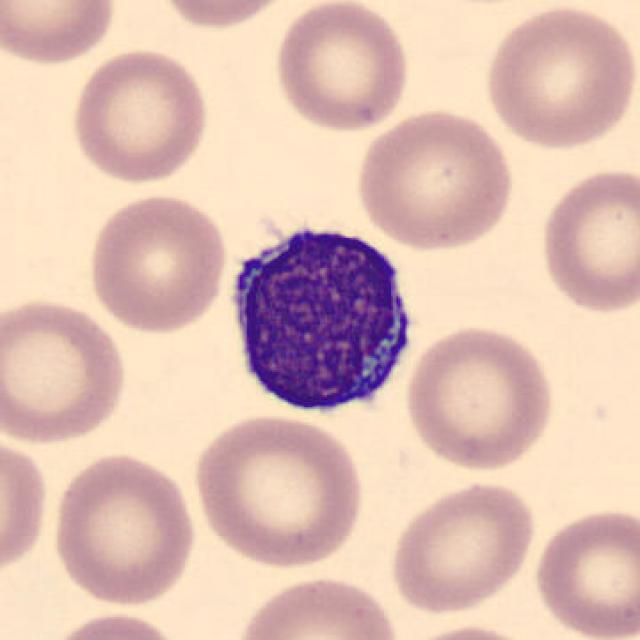Lymphocyte: (217, 206, 425, 425)
RBC: (187, 411, 368, 571), (350, 104, 518, 254), (46, 448, 199, 610), (400, 321, 558, 474), (478, 2, 638, 152), (84, 188, 231, 336), (386, 476, 538, 617), (66, 44, 213, 187), (0, 292, 132, 448), (270, 2, 414, 136), (534, 162, 638, 318), (530, 502, 638, 640), (231, 571, 402, 640), (0, 0, 121, 69), (0, 430, 52, 584), (146, 0, 302, 32), (38, 608, 190, 640), (394, 620, 549, 640)
